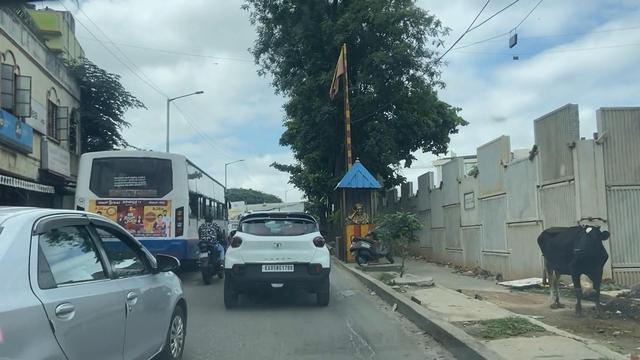LMV: (225, 213, 327, 312), (199, 207, 217, 279)
